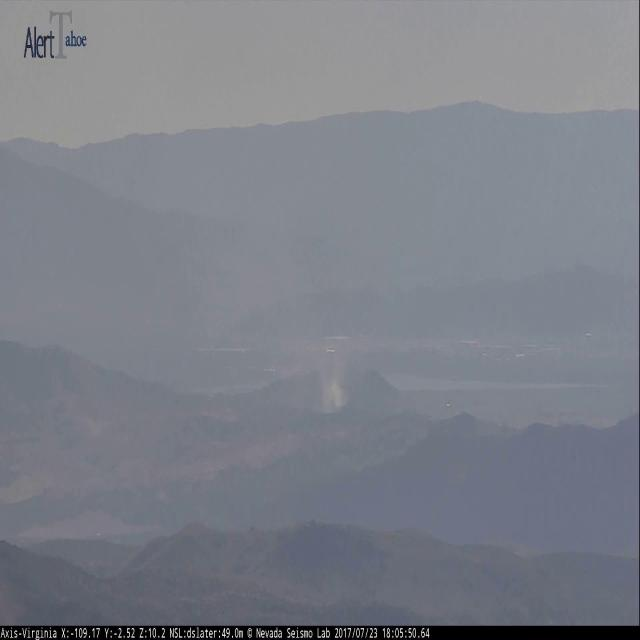smoke: (204, 243, 349, 417)
